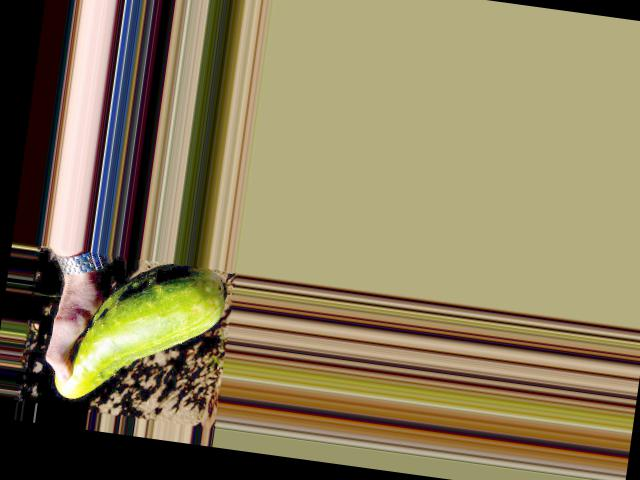cucumber: (52, 248, 230, 417)
